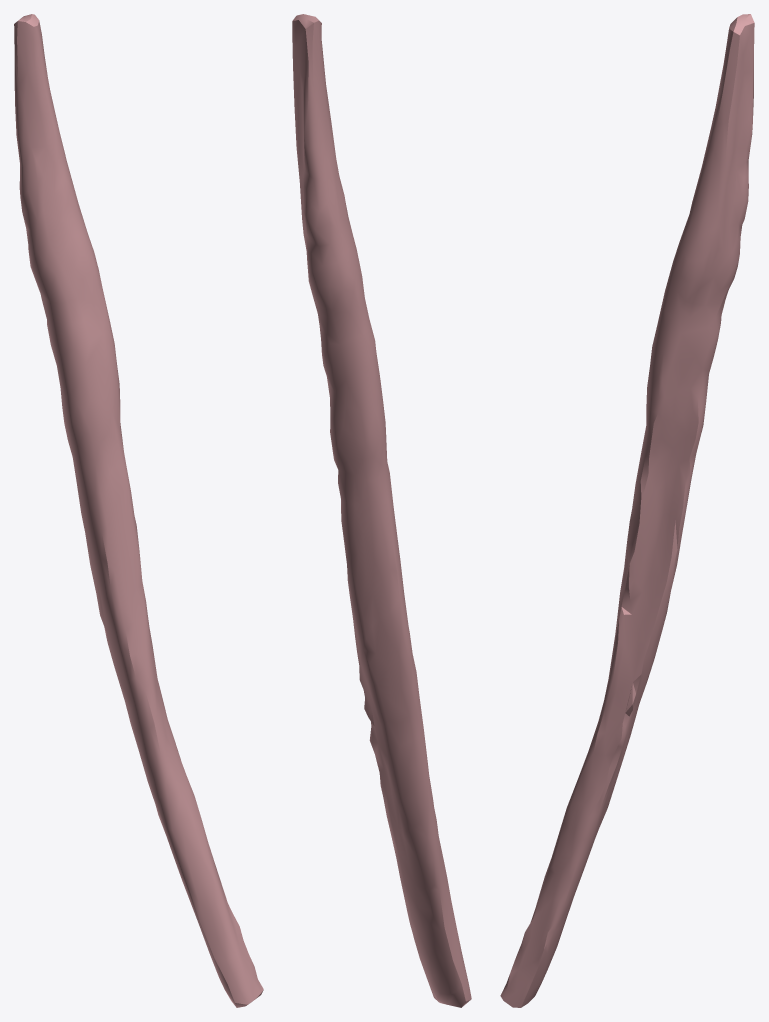
File: fma297784_mm1853.glb
3 renders of one model, left to right at view 1: azimuth 90°, elevation 25°; view 2: azimuth 150°, elevation 25°; view 3: azimuth 270°, elevation 25°, orthographic. The views are drawn at different scales.
Visible parts, largest first — view 1: FMA297784_MM1853; view 2: FMA297784_MM1853; view 3: FMA297784_MM1853.
Boxes of the visible parts, x1,y1,x2,y2 form: FMA297784_MM1853: [14, 14, 263, 1007]; FMA297784_MM1853: [292, 14, 471, 1007]; FMA297784_MM1853: [500, 14, 754, 1007].
Bounding box in the file's own units: 0.0119 × 0.1733 × 0.0402.
